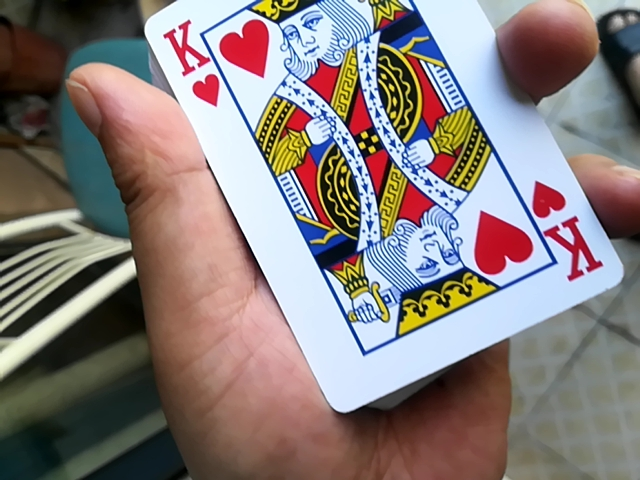hx k: (129, 3, 631, 402)
